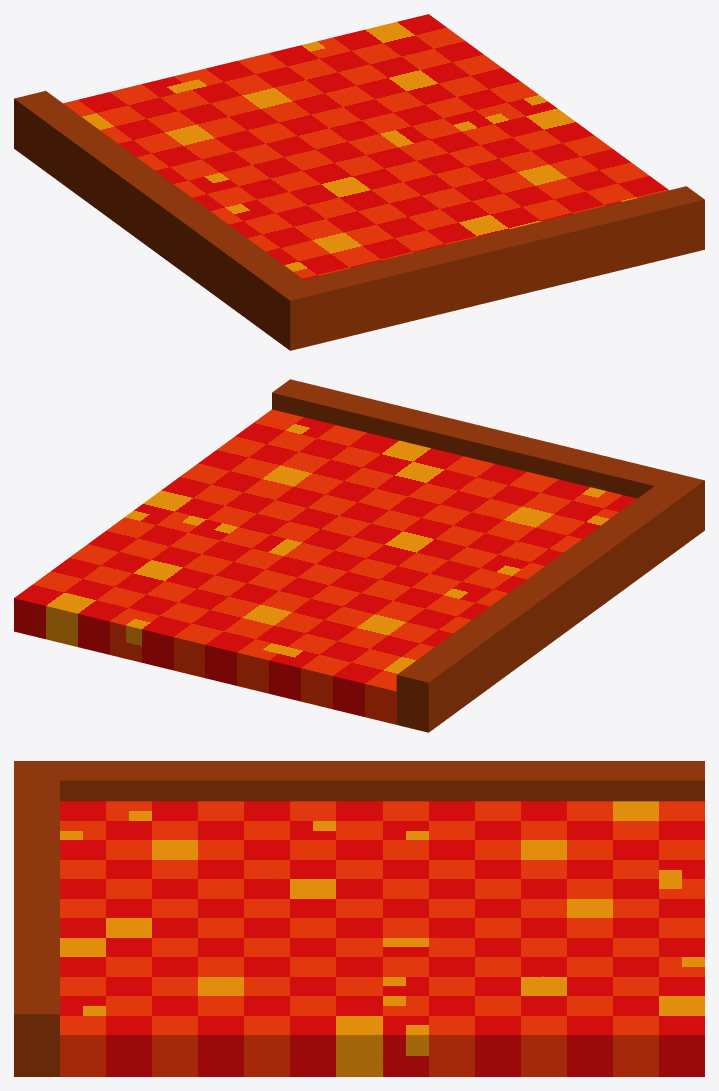
File: Content.obj
3 views of the same model, one above another, from view 1: azimuth 30°, elevation 25°; view 2: azimuth 150°, elevation 25°; view 3: azimuth 270°, elevation 25° (orthographic). The views are drawn at different scales.
Parts seen in each view (by area): view 1: Model; view 2: Model; view 3: Model.
Boxes of the visible parts, box(x1,y1,x2,y2) form: Model: box(14, 14, 704, 350); Model: box(14, 379, 704, 732); Model: box(14, 761, 704, 1076).
Bounding box in the file's own units: 27.73 × 3.2 × 32.
1 material, 1 textured.
